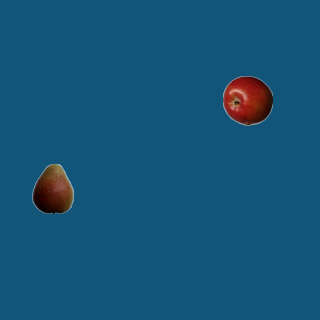Apple Braeburn: (222, 75, 272, 125)
Pear Forelle: (27, 163, 77, 213)
